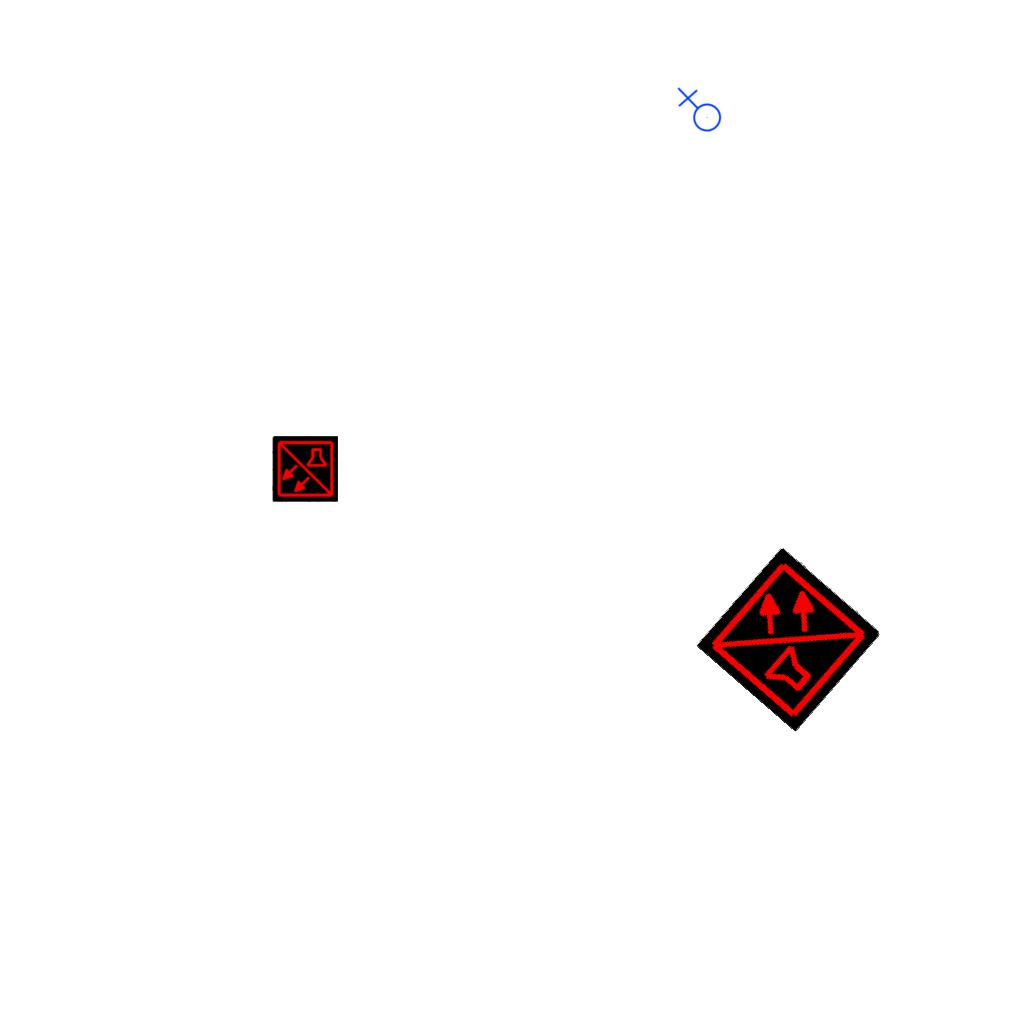Elektroanschluss_allgemein_230V_Geraeteanschlussdose_230V: (675, 87, 722, 136)
OKW_Multisensormelder_(Kombination_optischer_Rauch-Kahlenmonoxid_Waerme-Melder): (695, 545, 883, 733), (272, 436, 338, 502)
